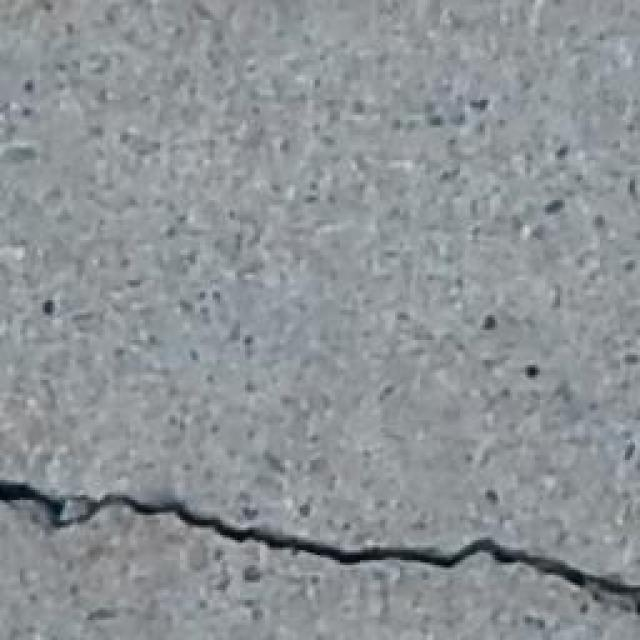concrete-crack: (0, 475, 640, 610)
